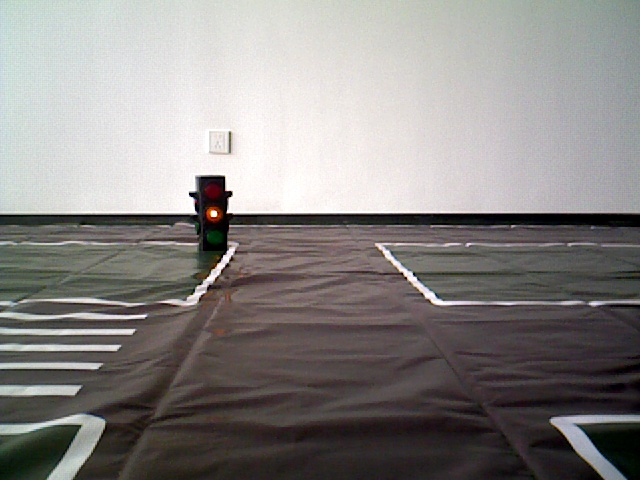yellow: (195, 172, 227, 245)
